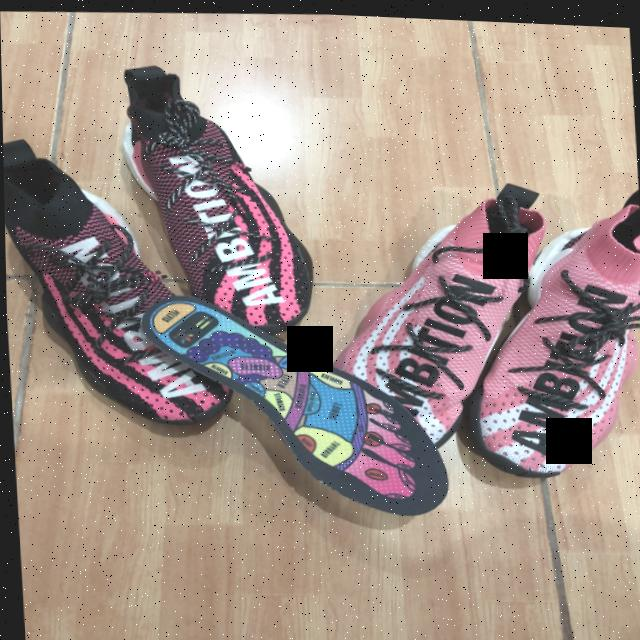shoes: (2, 127, 231, 434), (316, 170, 558, 450), (110, 55, 318, 339), (448, 174, 640, 481)
